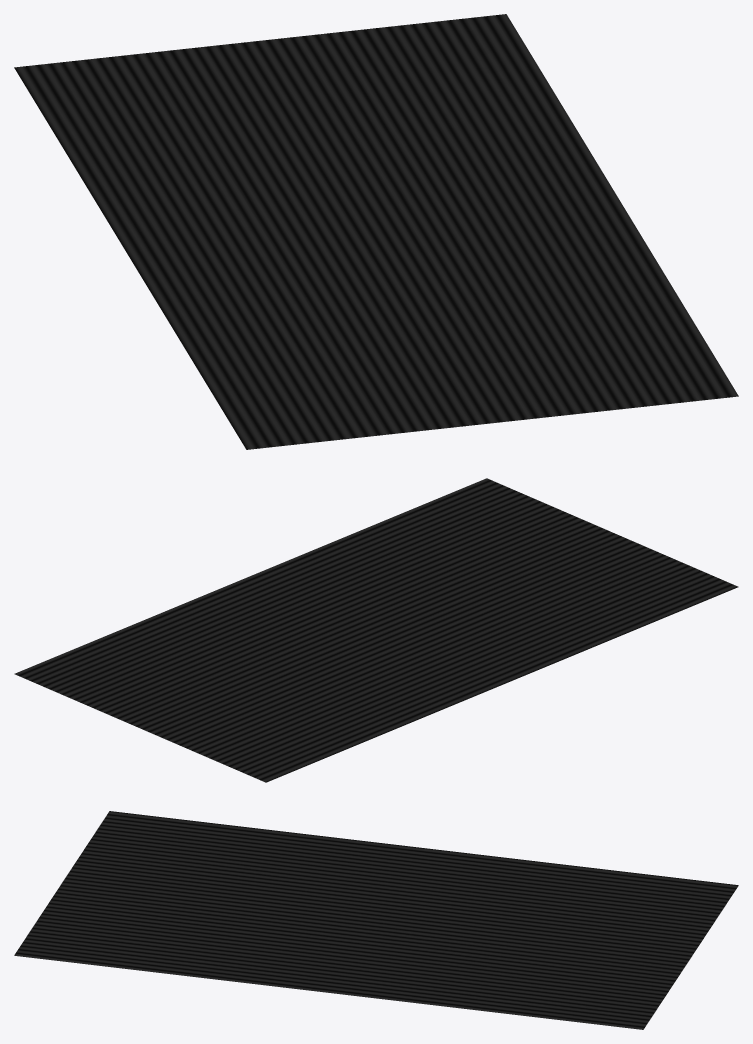
Rendered from Carpet.fbx.
3 renders of one model, top to bottom at view 1: azimuth 30°, elevation 25°; view 2: azimuth 150°, elevation 25°; view 3: azimuth 270°, elevation 25°, orthographic. The views are drawn at different scales.
Parts seen in each view (by area): view 1: Carpet; view 2: Carpet; view 3: Carpet.
Part boxes in pixels (x1,y1,x2,y2): Carpet: (14, 14, 738, 449); Carpet: (14, 478, 738, 782); Carpet: (14, 811, 738, 1029).
Size of the model in its own units: 130 by 0 by 181.
